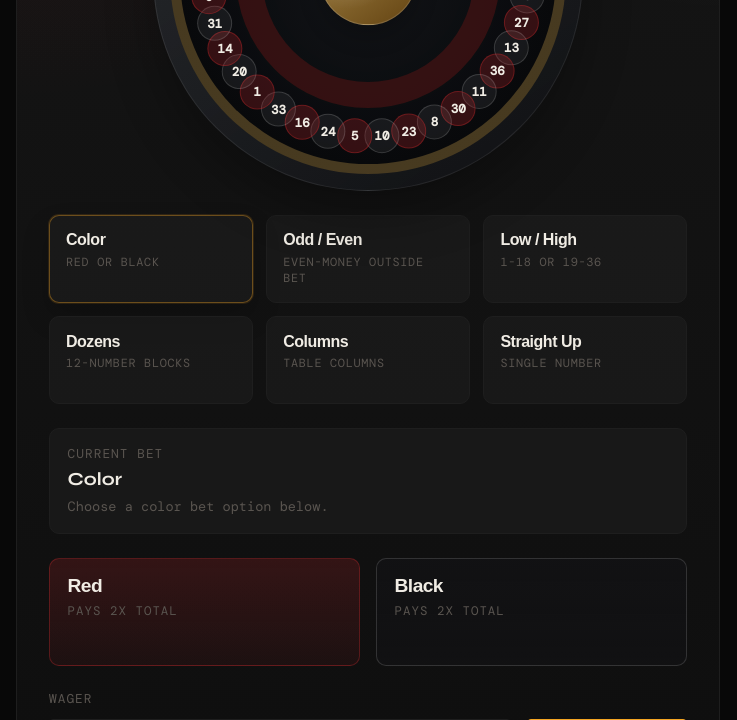
Test: EarnPage › switches roulette bet modes and renders the number board
(page scrolled)
Click the button "Straight Up Single number". click: coordinates (585, 360)
box: [483,316,687,404]
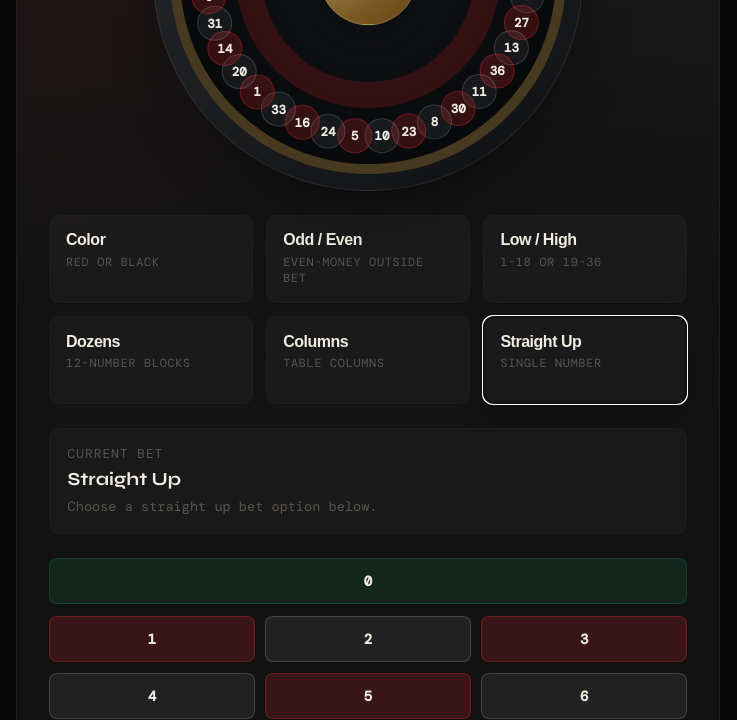
Check: the button named "Number 0" is shown, box [49,558,687,604]
Click the button "Dozens 12-number blocks". click: coordinates (151, 360)
box: [49,316,253,404]
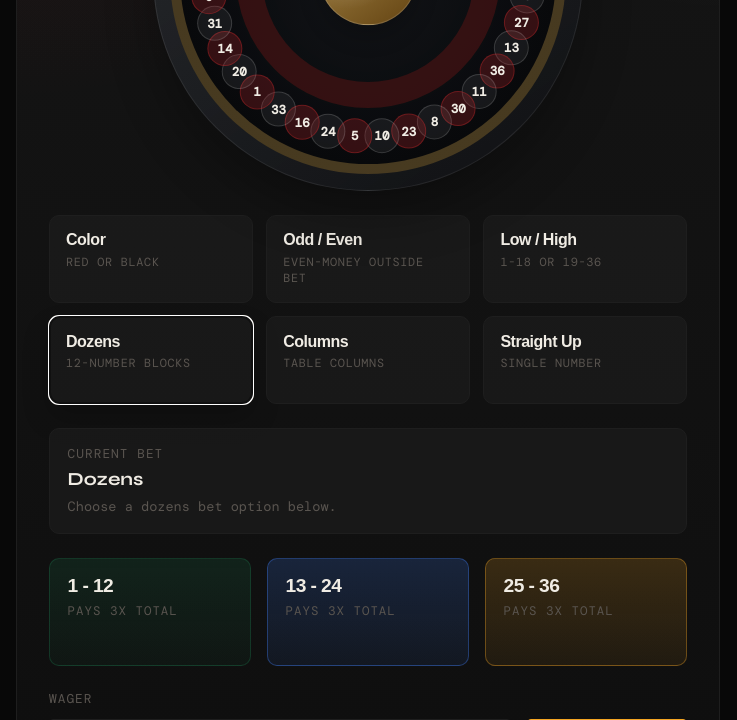
Check: the button "1 - 12 Pays 3x total" is shown, box [49,558,251,666]
